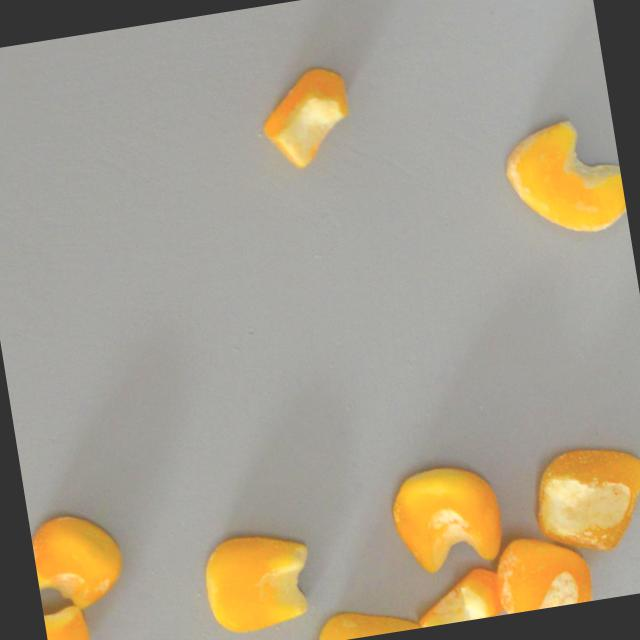no_canjicado: (382, 455, 511, 581), (195, 523, 323, 640)
no_desgerminado: (253, 60, 362, 177), (408, 560, 510, 629)
pelicula: (492, 106, 630, 251), (526, 437, 640, 560), (27, 503, 130, 616), (489, 528, 595, 615), (299, 591, 432, 640), (39, 583, 94, 640)
